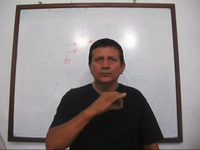oi: (91, 88, 127, 114)
